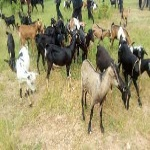Animal: (79, 56, 119, 134), (94, 43, 132, 111), (119, 40, 147, 107), (45, 35, 82, 77), (15, 47, 41, 100), (17, 19, 43, 46), (110, 22, 140, 45), (3, 32, 18, 71), (76, 27, 95, 57), (44, 24, 66, 48), (93, 23, 110, 44), (66, 17, 84, 34), (1, 14, 17, 31)
Uncultivated: (1, 4, 149, 149)
